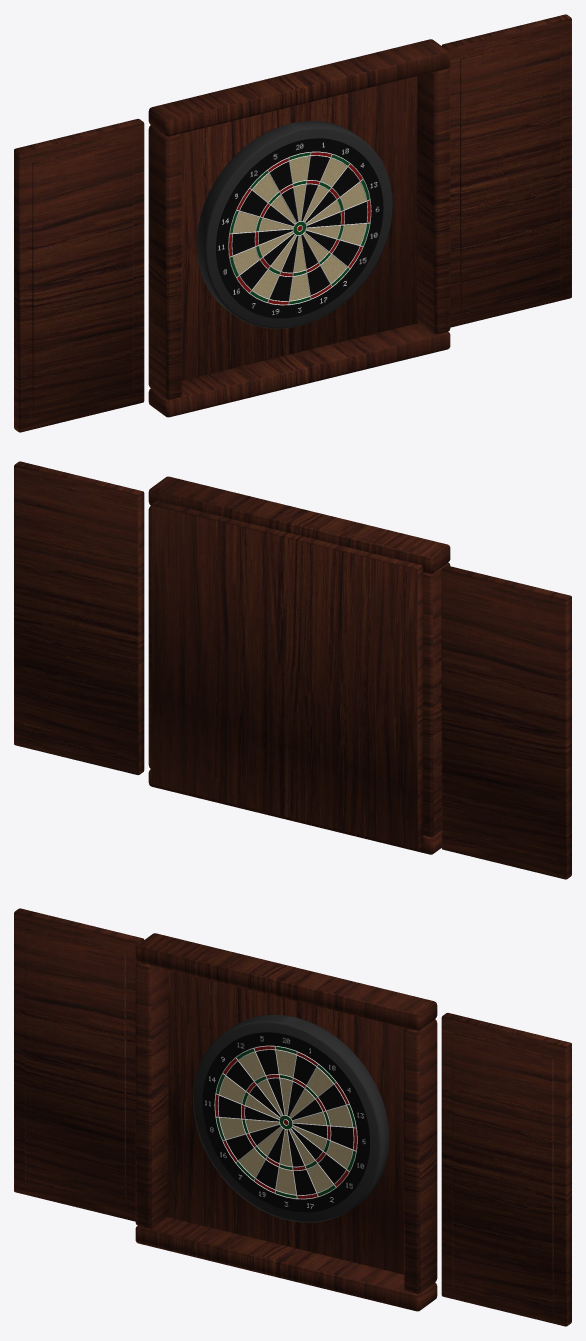
File: dartboard.glb
3 views of the same model, one above another, from view 1: azimuth 30°, elevation 25°; view 2: azimuth 150°, elevation 25°; view 3: azimuth 330°, elevation 25° (orthographic).
Parts seen in each view (by area): view 1: Cabinet wood, Face, Board, Wire; view 2: Cabinet wood; view 3: Cabinet wood, Face, Board, Wire.
Part boxes in pixels (box(x1,y1,x2,y2)): Cabinet wood: box(14, 14, 571, 432); Face: box(216, 138, 383, 318); Board: box(196, 121, 392, 328); Wire: box(228, 151, 371, 305); Cabinet wood: box(14, 461, 571, 879); Cabinet wood: box(14, 908, 571, 1326); Face: box(202, 1032, 369, 1212); Board: box(193, 1015, 389, 1222); Wire: box(214, 1045, 357, 1199).
Size of the model in its own units: 1.32 by 0.68 by 0.105.
Materials: 4 (2 with a texture image).
